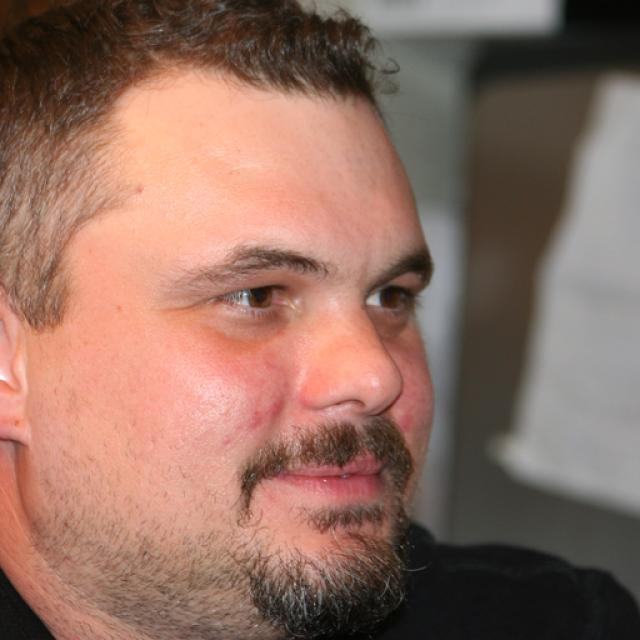neutral: (29, 89, 437, 640)
